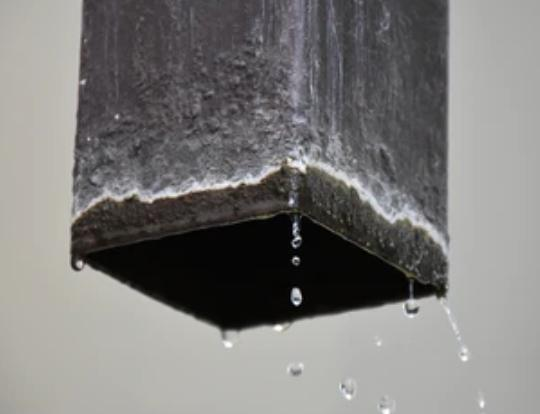water drop: (436, 293, 472, 362), (405, 275, 420, 317), (340, 376, 356, 400), (376, 394, 396, 413), (474, 389, 489, 413), (221, 327, 238, 348), (291, 216, 301, 249), (287, 361, 308, 376), (71, 252, 86, 270), (269, 321, 291, 332), (290, 289, 304, 306), (293, 257, 301, 266)
